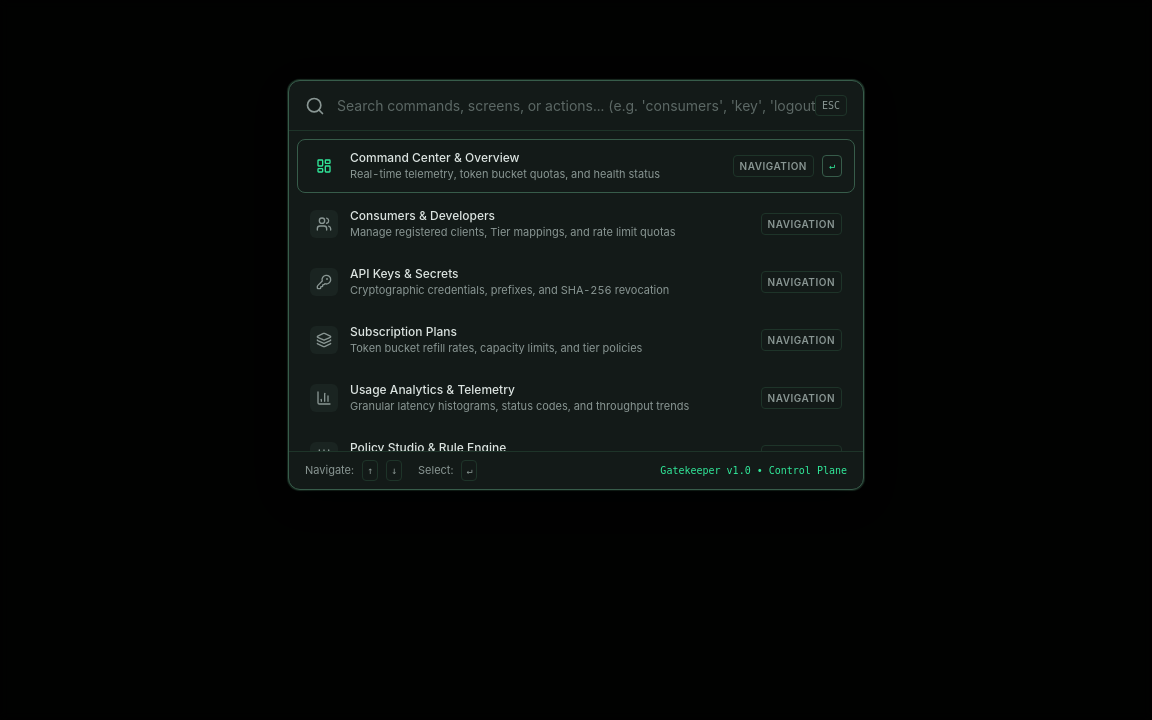
CommandPalette Component › shows empty message when no commands match query
Replace the text in the field with placeholder "Search commands" with "nonexistent-query-xyz" at {"x": 576, "y": 106}, box [337,96,815,116]
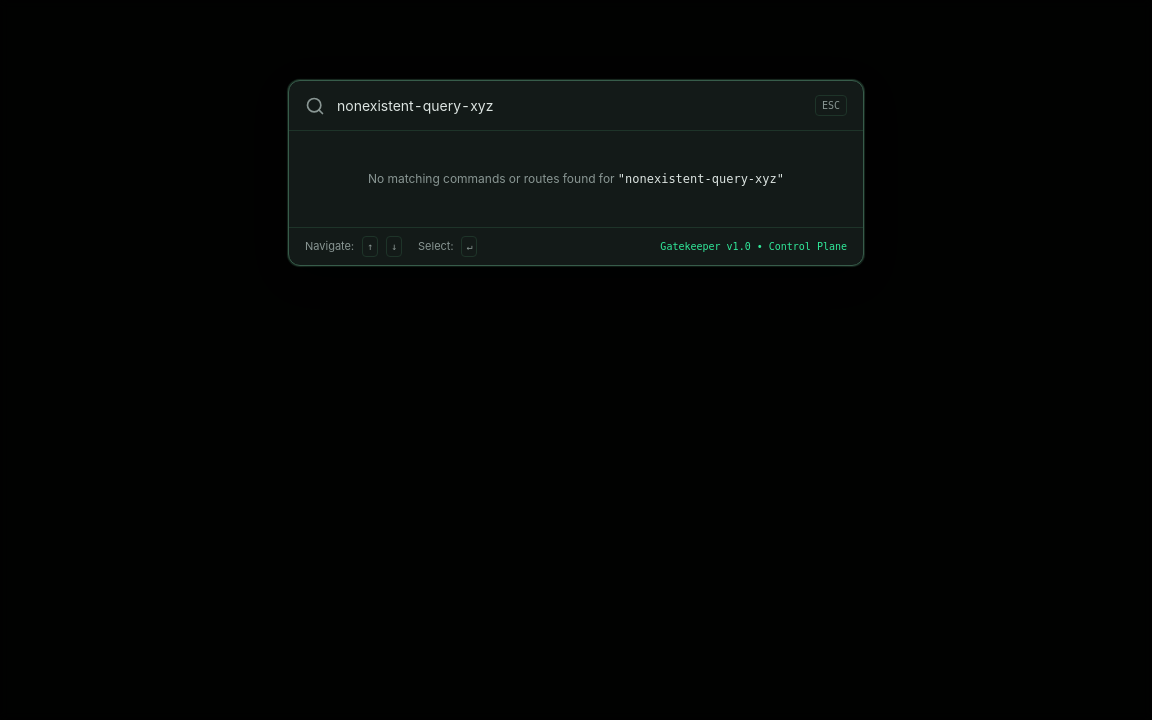
Expected: the text "No matching commands or routes found" is shown, [368,171,618,186]
